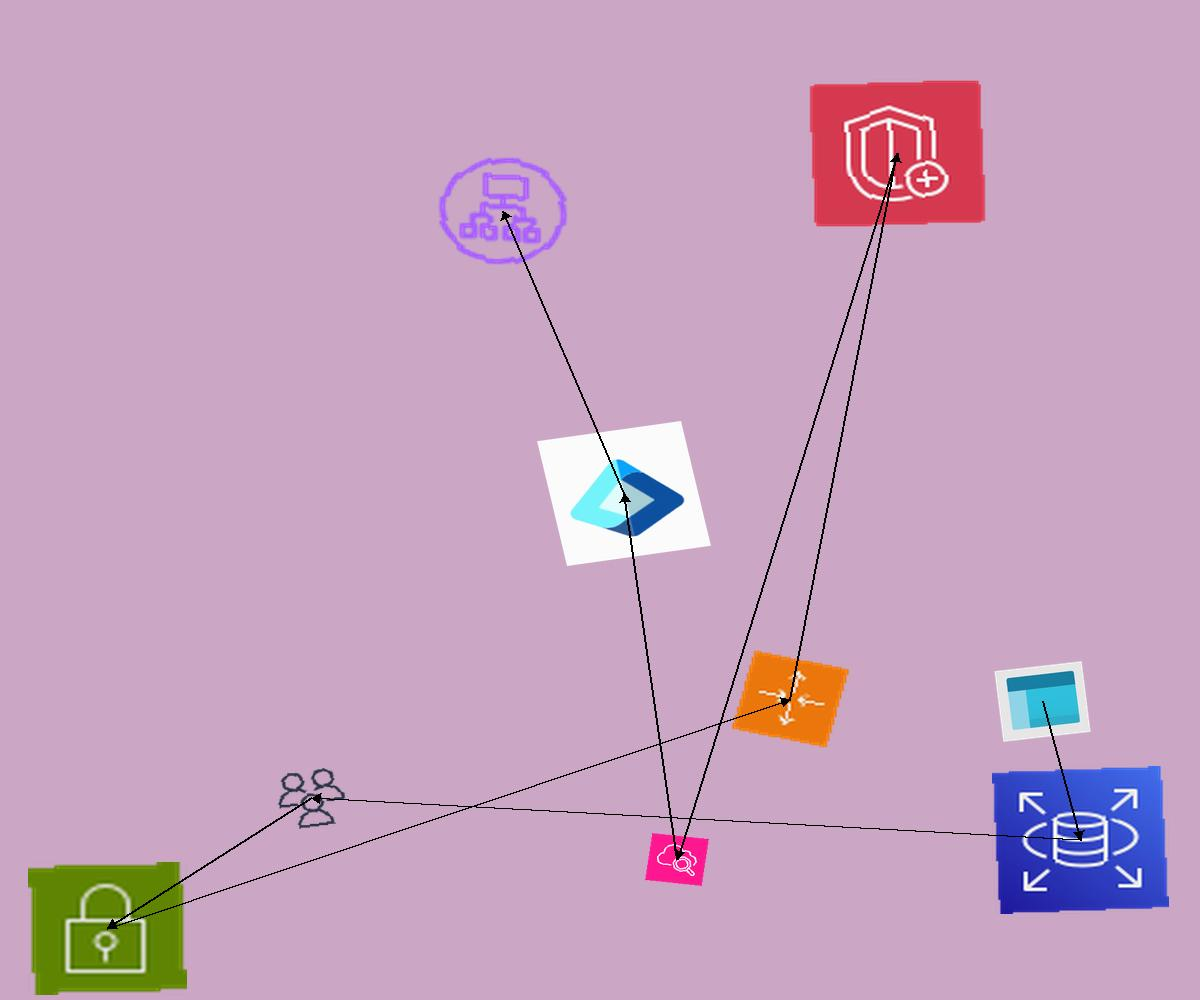AWS-CloudWatch: (645, 833, 709, 886)
AWS-Public-subnet: (28, 862, 187, 995)
AWS-RDS: (992, 766, 1169, 914)
AWS-Res_Elastic-Load-Balancing_Application-Load-Balancer: (425, 146, 581, 276)
AWS-Res_Users: (269, 763, 354, 834)
AWS-Scaling-group: (730, 649, 851, 749)
AWS-Shield: (808, 79, 987, 228)
Azure_management-portal: (994, 661, 1091, 742)
Azure_microsoft_entra: (537, 421, 711, 566)
